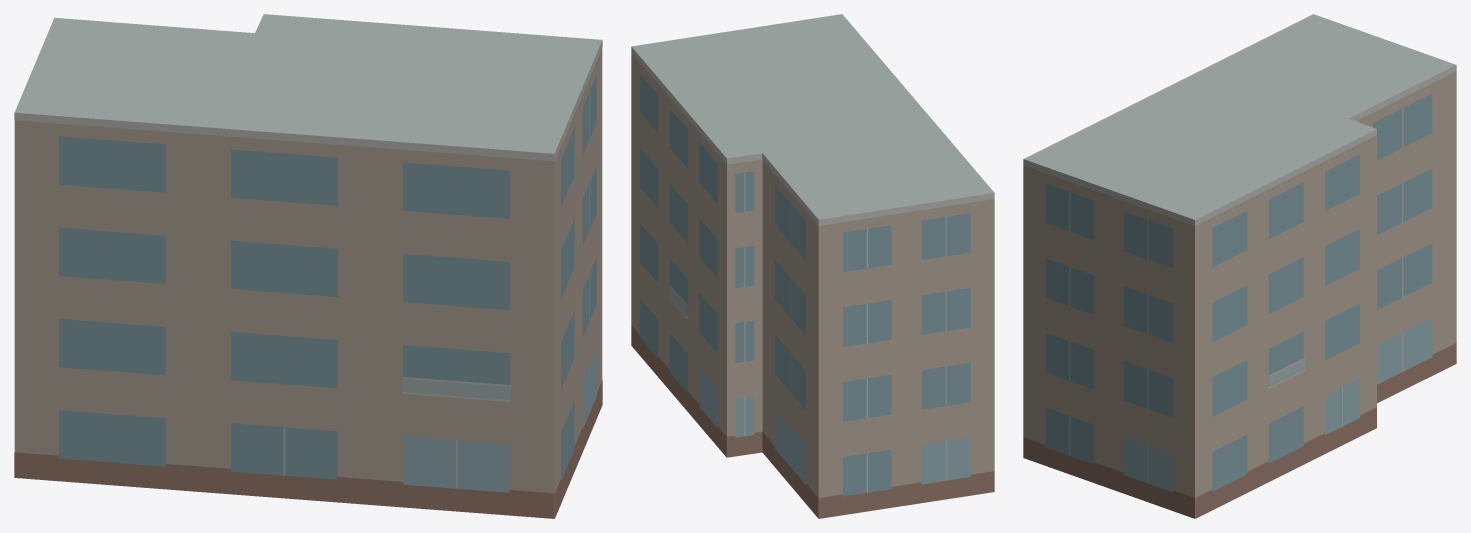
Rendered from survey-upis-32499645.glb.
3 renders of one model, left to right at view 1: azimuth 30°, elevation 25°; view 2: azimuth 150°, elevation 25°; view 3: azimuth 270°, elevation 25°, orthographic. The views are drawn at different scales.
Visible parts, largest first — view 1: survey-upis-32499645.tmp; view 2: survey-upis-32499645.tmp; view 3: survey-upis-32499645.tmp.
Part boxes in pixels (left/top/right/bottom): survey-upis-32499645.tmp: left=14, top=14, right=602, bottom=518; survey-upis-32499645.tmp: left=631, top=14, right=994, bottom=518; survey-upis-32499645.tmp: left=1023, top=14, right=1456, bottom=518.
Size of the model in its own units: 17.5 by 11.83 by 15.55.
